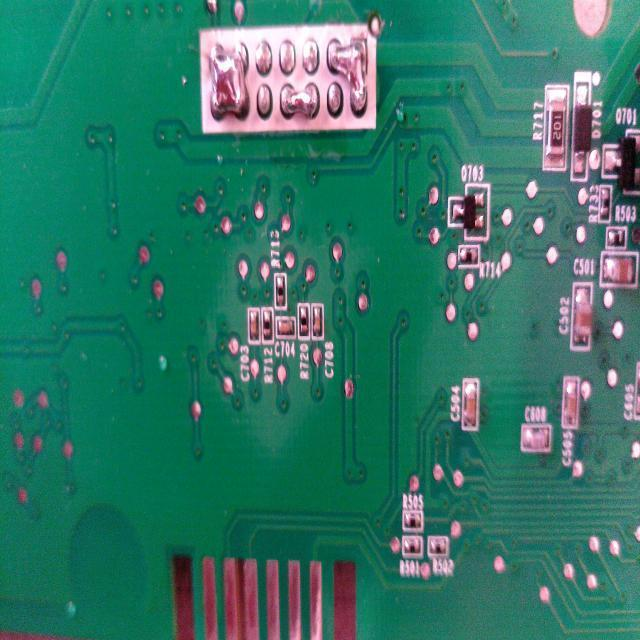Soldering shorted: (207, 38, 251, 128), (326, 30, 368, 120), (278, 80, 320, 120)
